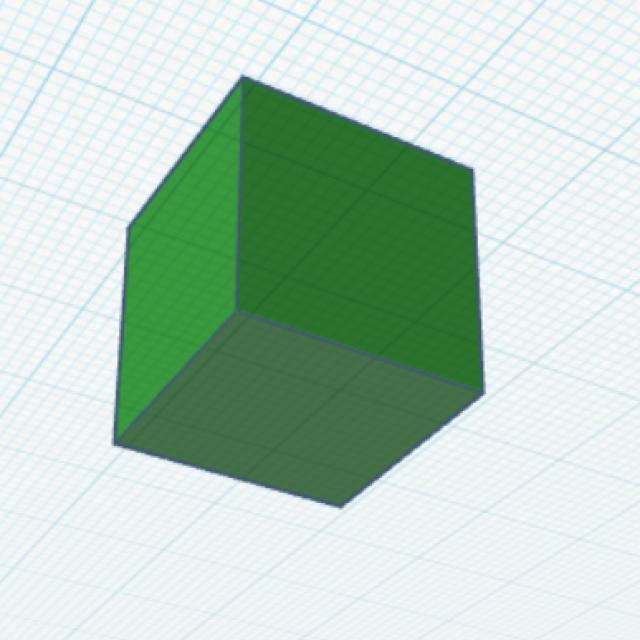cube: (108, 71, 488, 512)
